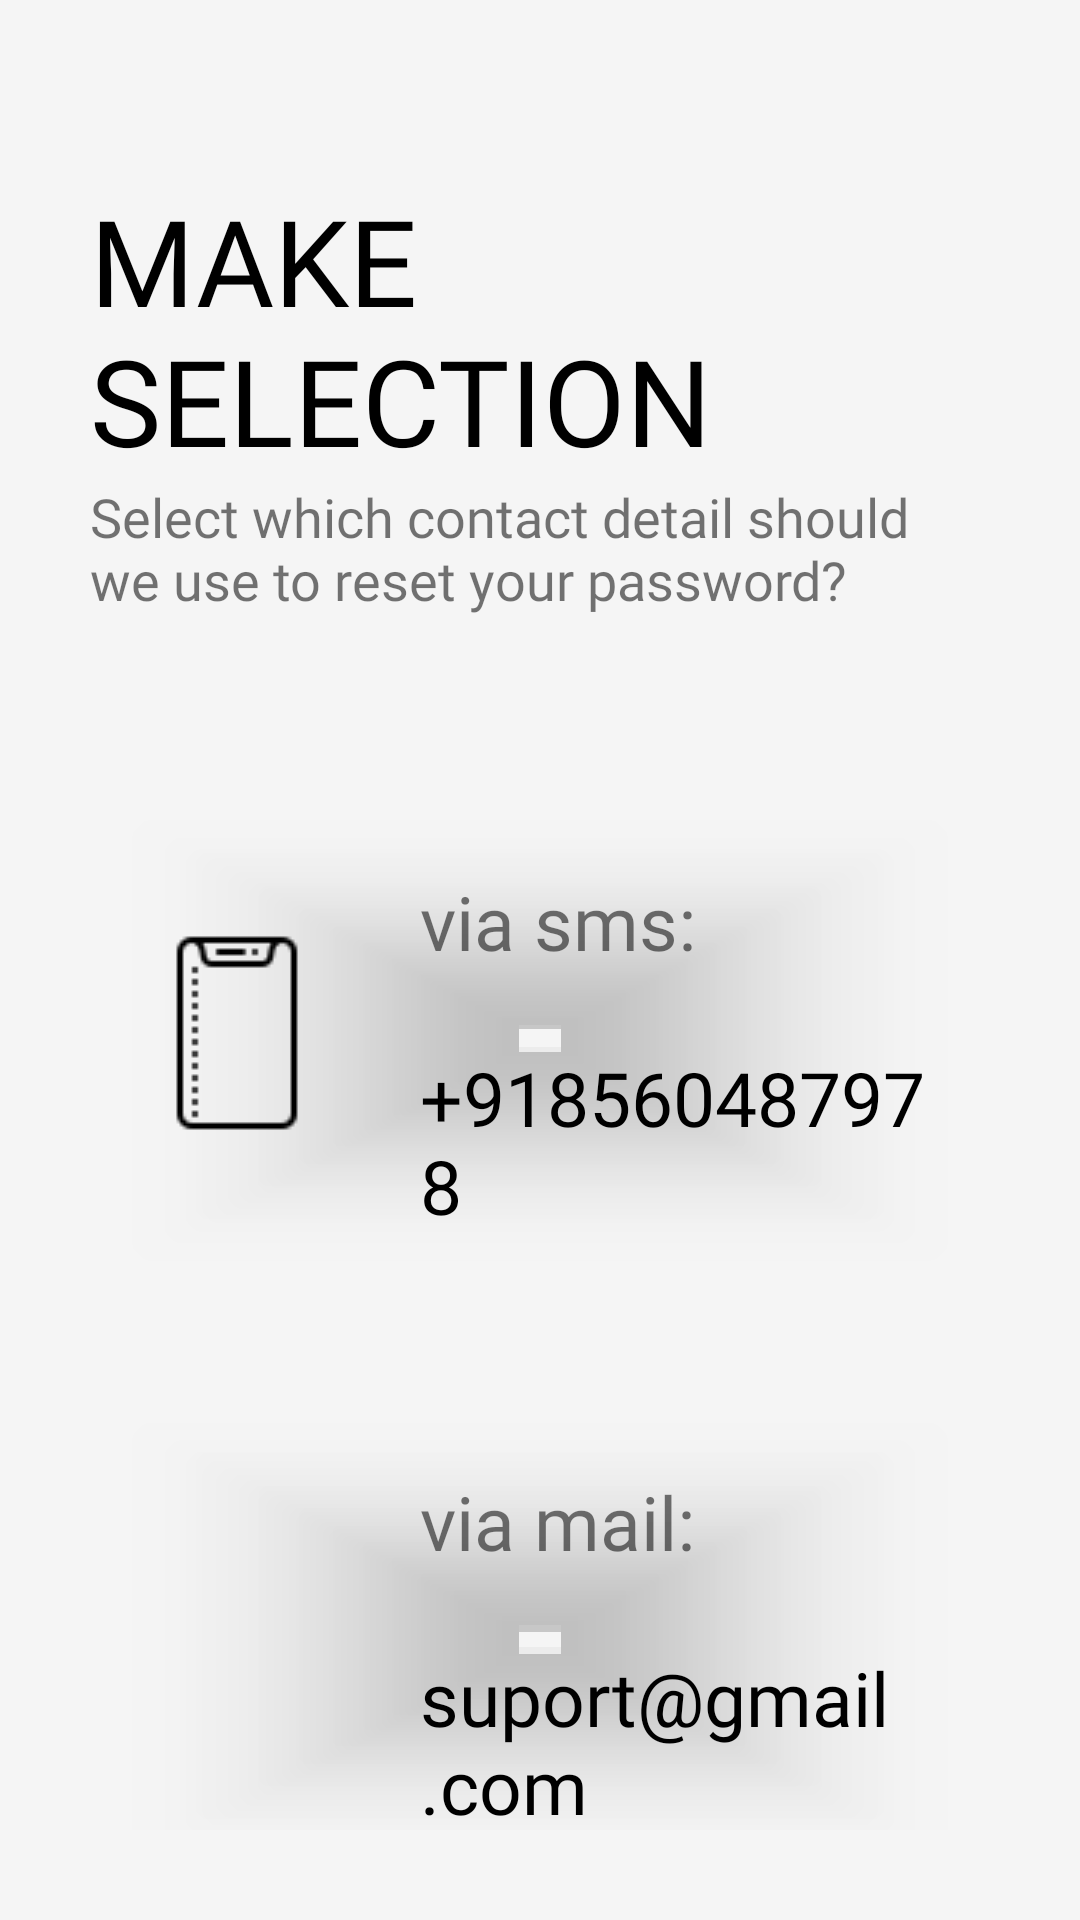

Point at icon controls on the screen. Image size 1080 × 1920, points as (x=x, y=y).
mobile custom: (x=268, y=1036)
